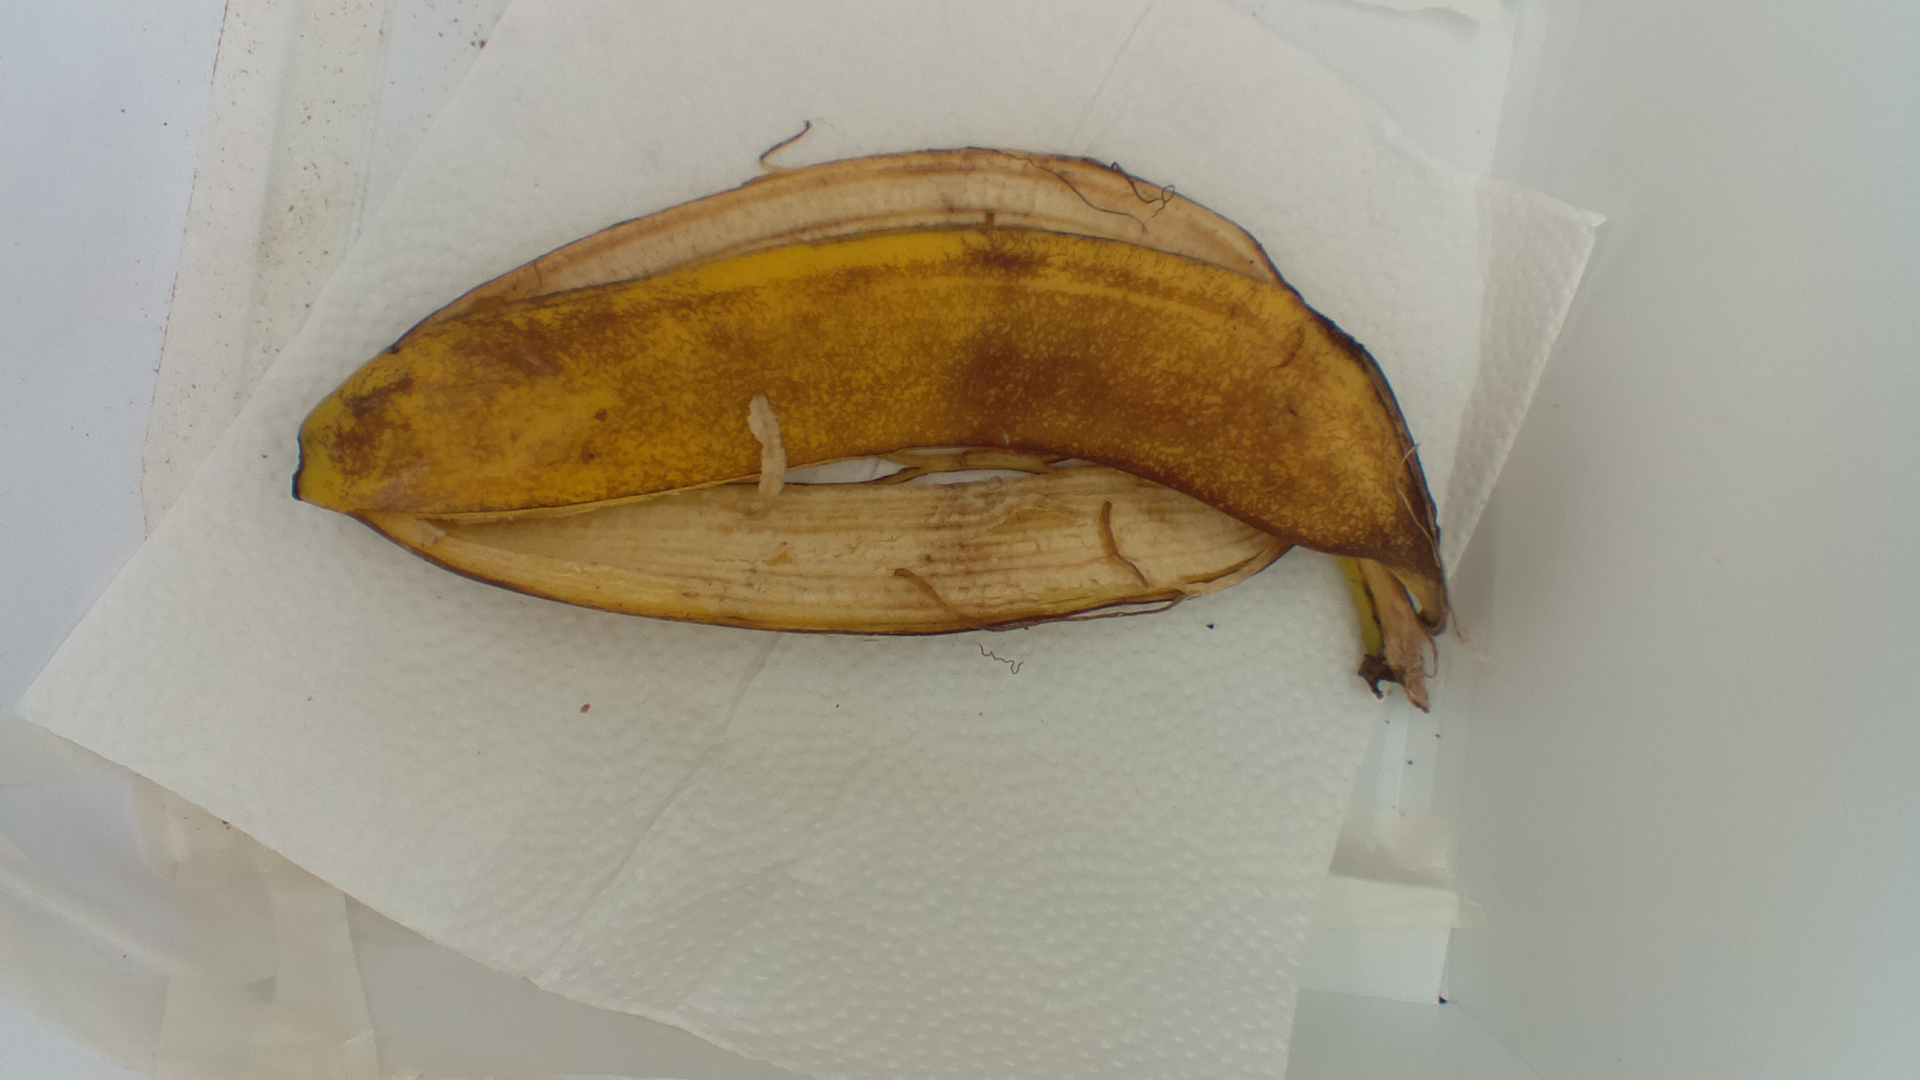fruit: (280, 142, 1464, 731)
